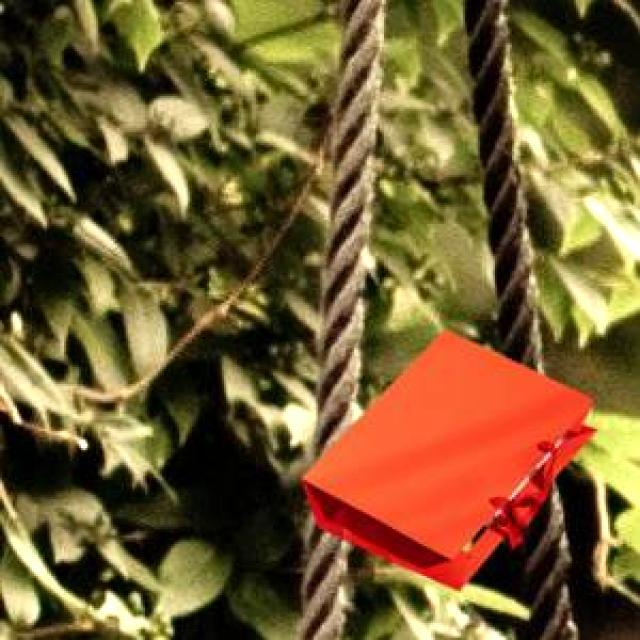Paper_Bag: (300, 327, 592, 588)
